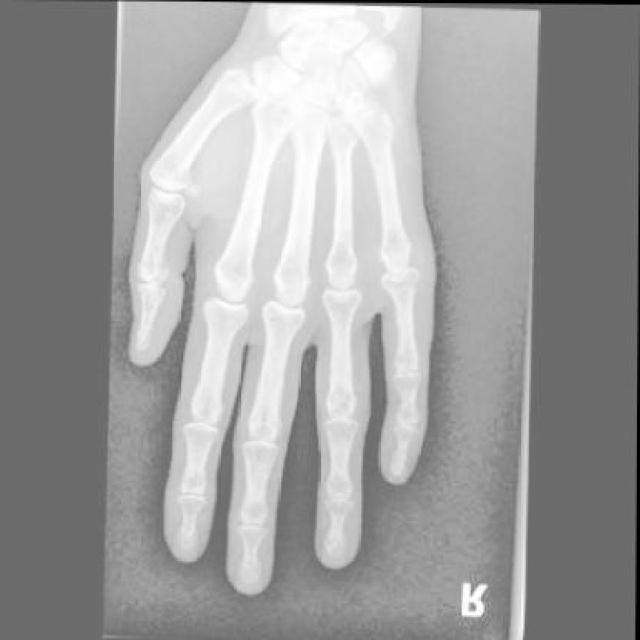Fracture: (130, 249, 167, 282)
